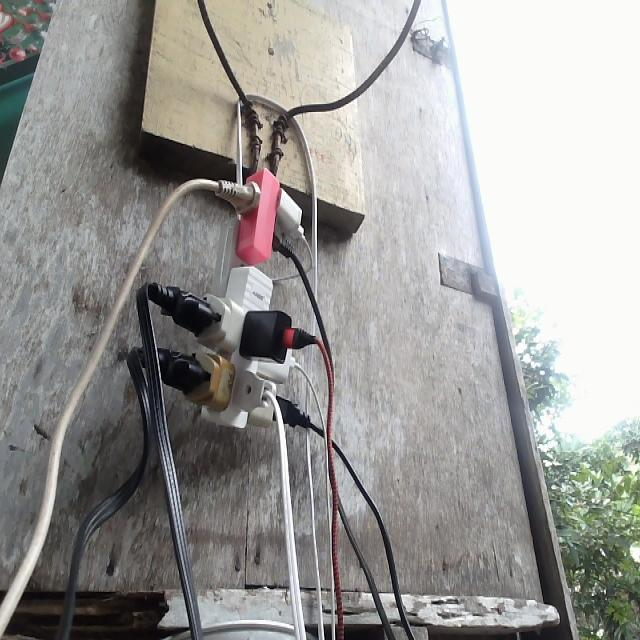-: (137, 165, 319, 431)
